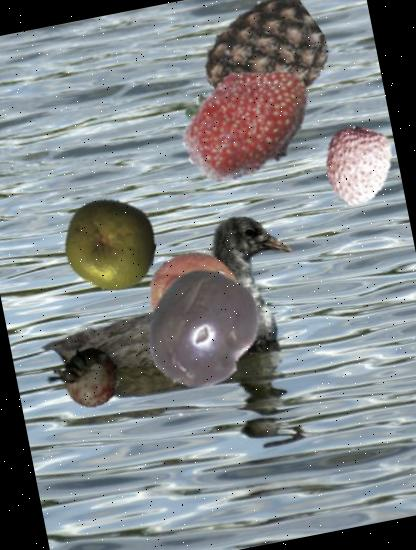Lychee: (311, 120, 404, 212)
Mandarine: (139, 242, 253, 356)
Passion: (130, 258, 274, 402)
Pineapple: (194, 0, 338, 129)
Pomelo: (56, 190, 164, 298)
Strawberry: (166, 40, 330, 204), (47, 336, 130, 418)
